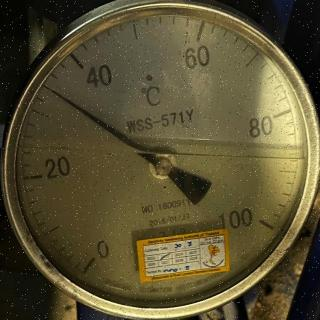gauge: (0, 0, 320, 320), (242, 203, 282, 241), (76, 244, 106, 276), (150, 154, 174, 178), (46, 86, 60, 98)
